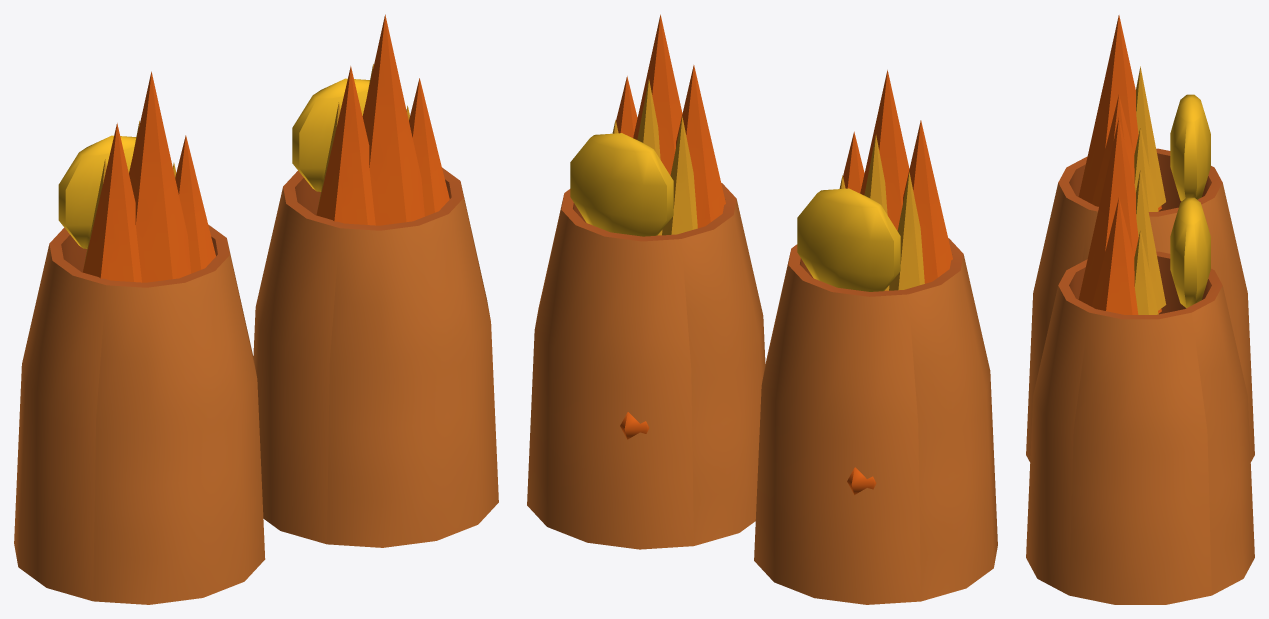
File: pickup_double.glb
3 views of the same model, side by side, from view 1: azimuth 30°, elevation 25°; view 2: azimuth 150°, elevation 25°; view 3: azimuth 270°, elevation 25° (orthographic). The views are drawn at different scales.
Parts seen in each view (by area): view 1: pickup_double; view 2: pickup_double; view 3: pickup_double.
Boxes of the visible parts, box(x1,y1,x2,y2) form: pickup_double: box(14, 14, 498, 604); pickup_double: box(527, 14, 997, 604); pickup_double: box(1026, 15, 1254, 604).
Size of the model in its own units: 0.652 by 0.68 by 0.32.
Materials: 1 (1 with a texture image).
